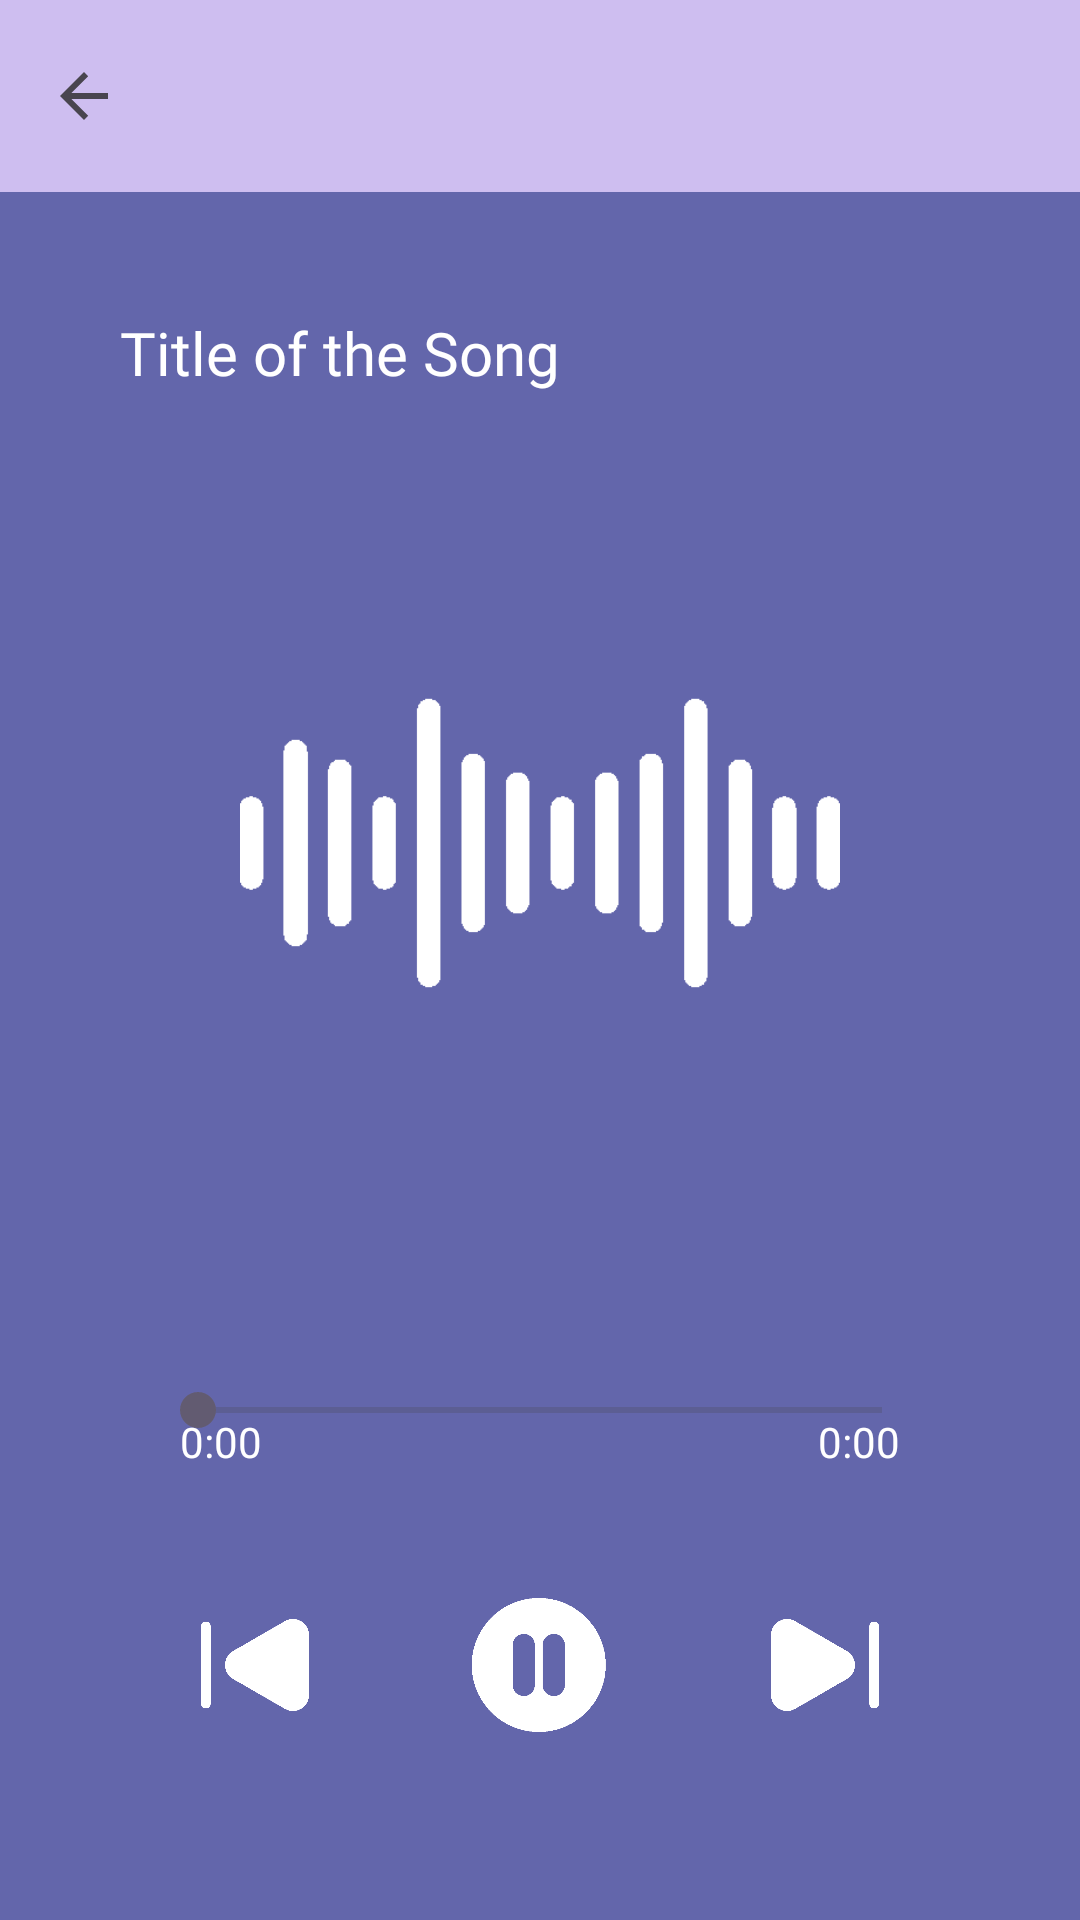

Screen size 1080px×1920px. Icon name, then its box in pixels as (x1, y1, x2, y2):
next: (771, 1619, 879, 1711)
previous: (201, 1619, 309, 1711)
